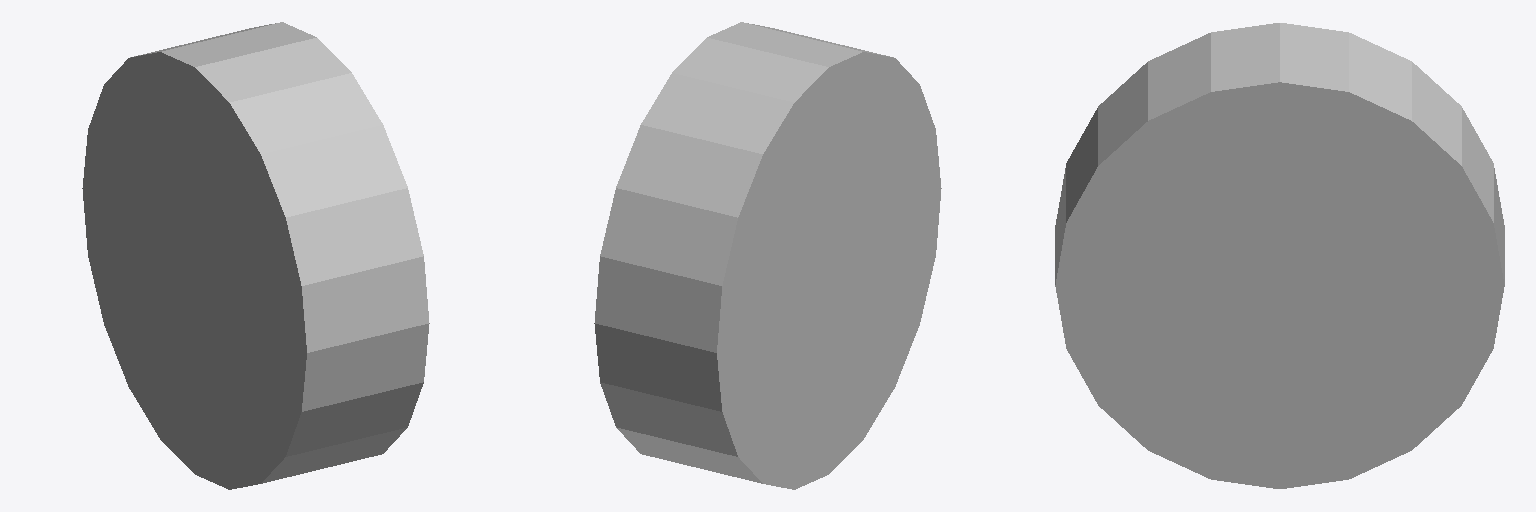
Rendered from wheel.obj.
3 renders of one model, left to right at view 1: azimuth 30°, elevation 25°; view 2: azimuth 150°, elevation 25°; view 3: azimuth 270°, elevation 25°, orthographic.
Parts seen in each view (by area): view 1: polySurface1; view 2: polySurface1; view 3: polySurface1.
Part boxes in pixels (left/top/right/bottom): polySurface1: left=82, top=22, right=429, bottom=489; polySurface1: left=594, top=22, right=941, bottom=489; polySurface1: left=1055, top=23, right=1504, bottom=488.
Bounding box in the file's own units: 0.3495 × 1.11 × 1.11.